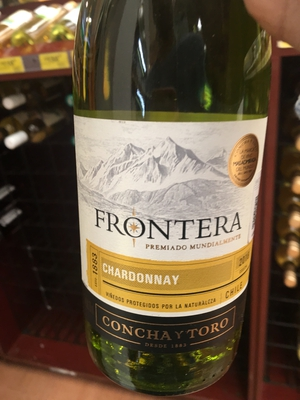frontera chardonnay: (55, 4, 278, 400)
